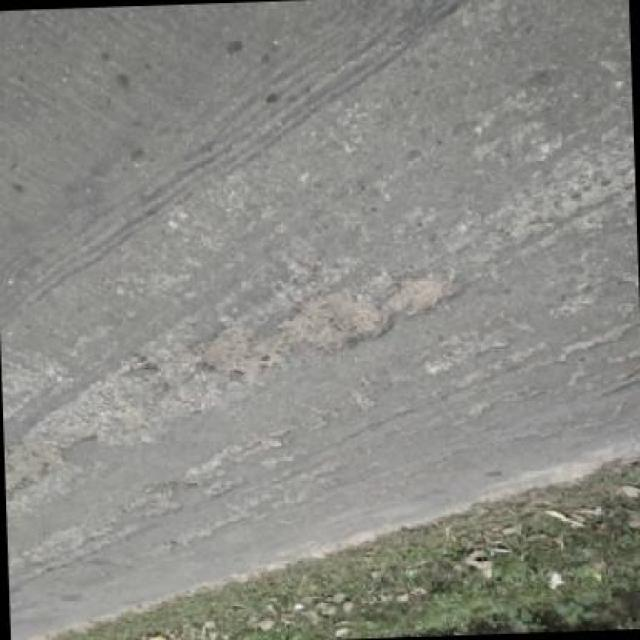pothole1: (279, 290, 399, 358), (194, 323, 288, 386), (384, 278, 461, 320), (6, 446, 56, 506)
